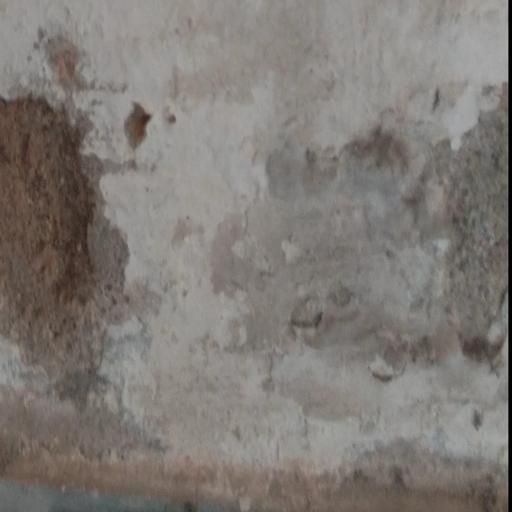spalling: (240, 93, 512, 439), (4, 61, 174, 441), (16, 404, 512, 512)
